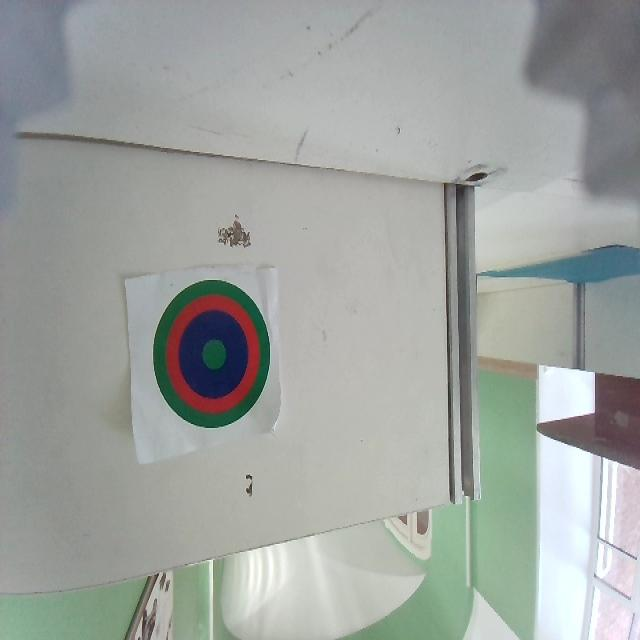cogn: (152, 279, 270, 428)
